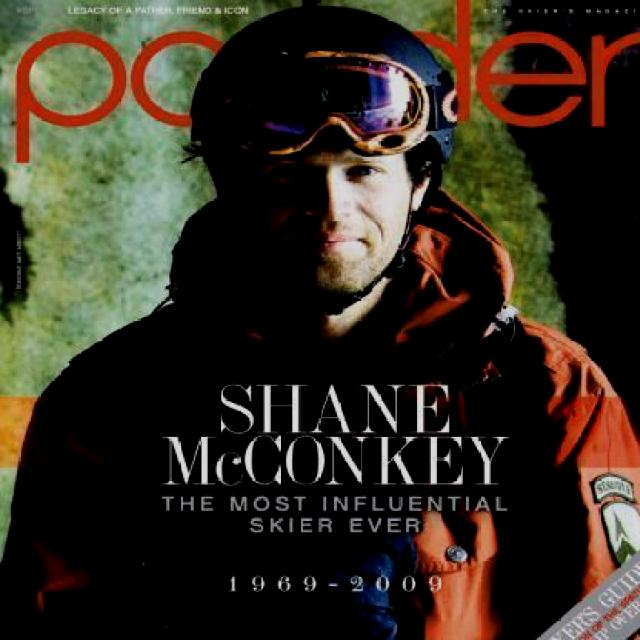face_nomask: (251, 148, 395, 270)
glasses: (225, 53, 437, 152)
